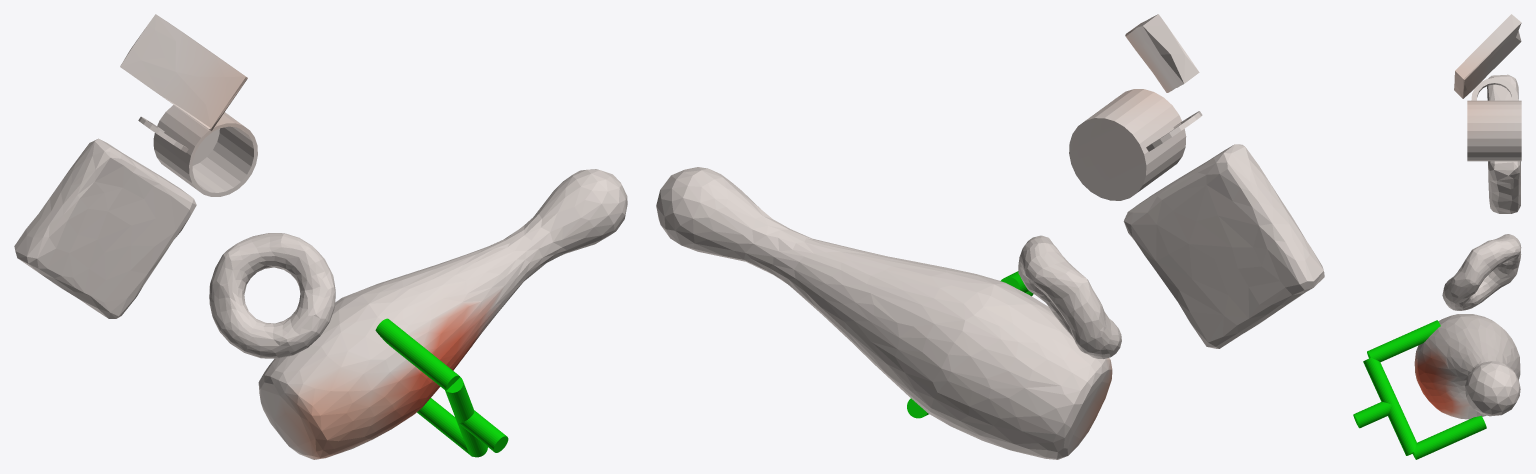
File: round_000_trial_000.obj
3 renders of one model, left to right at view 1: azimuth 30°, elevation 25°; view 2: azimuth 150°, elevation 25°; view 3: azimuth 270°, elevation 25°, orthographic. The views are drawn at different scales.
Parts seen in each view (by area): view 1: geometry_0, geometry_1; view 2: geometry_0; view 3: geometry_0, geometry_1.
Boxes of the visible parts, box(x1,y1,x2,y2) form: geometry_0: box(14, 14, 627, 459); geometry_1: box(375, 318, 508, 457); geometry_0: box(656, 14, 1324, 459); geometry_0: box(1414, 14, 1521, 419); geometry_1: box(1353, 320, 1486, 459).
Bounding box in the file's own units: 0.3376 × 0.2489 × 0.1086.
